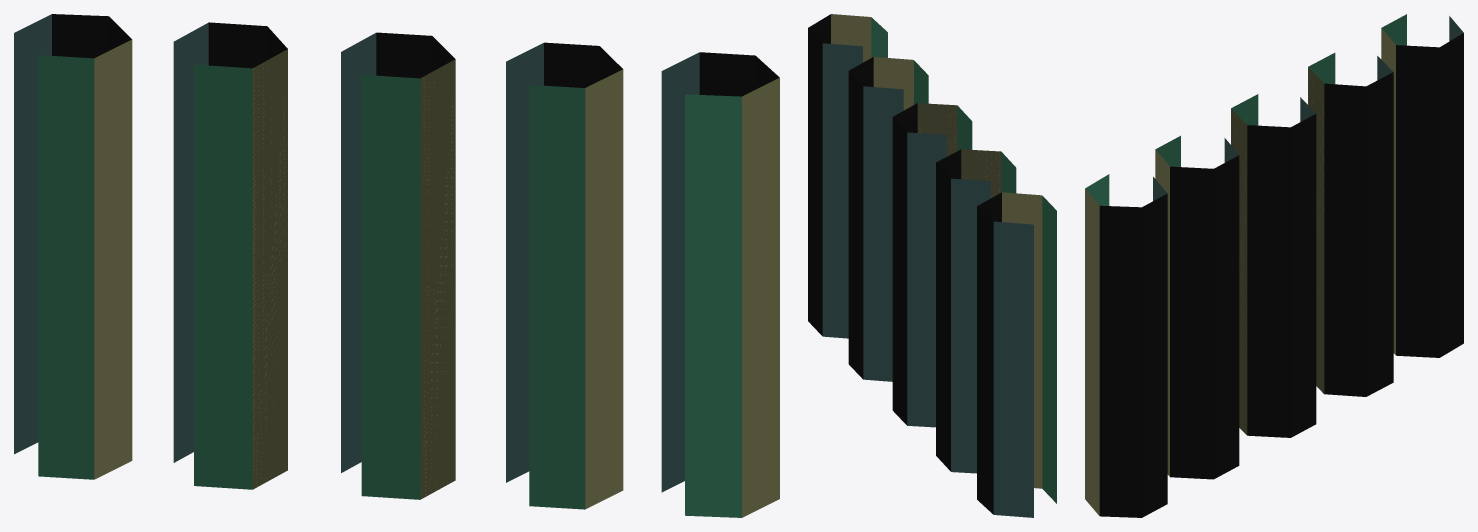
Rendered from test_tubes_secondary.glb.
3 renders of one model, left to right at view 1: azimuth 30°, elevation 25°; view 2: azimuth 150°, elevation 25°; view 3: azimuth 270°, elevation 25°, orthographic. The views are drawn at different scales.
Parts seen in each view (by area): view 1: Object; view 2: Object; view 3: Object.
Boxes of the visible parts, x1,y1,x2,y2 form: Object: (14,14,779,517); Object: (808,14,1056,517); Object: (1085,14,1463,517).
Size of the model in its own units: 0.4829 by 0.3619 by 0.4001.
Materials: 6 (6 with a texture image).
